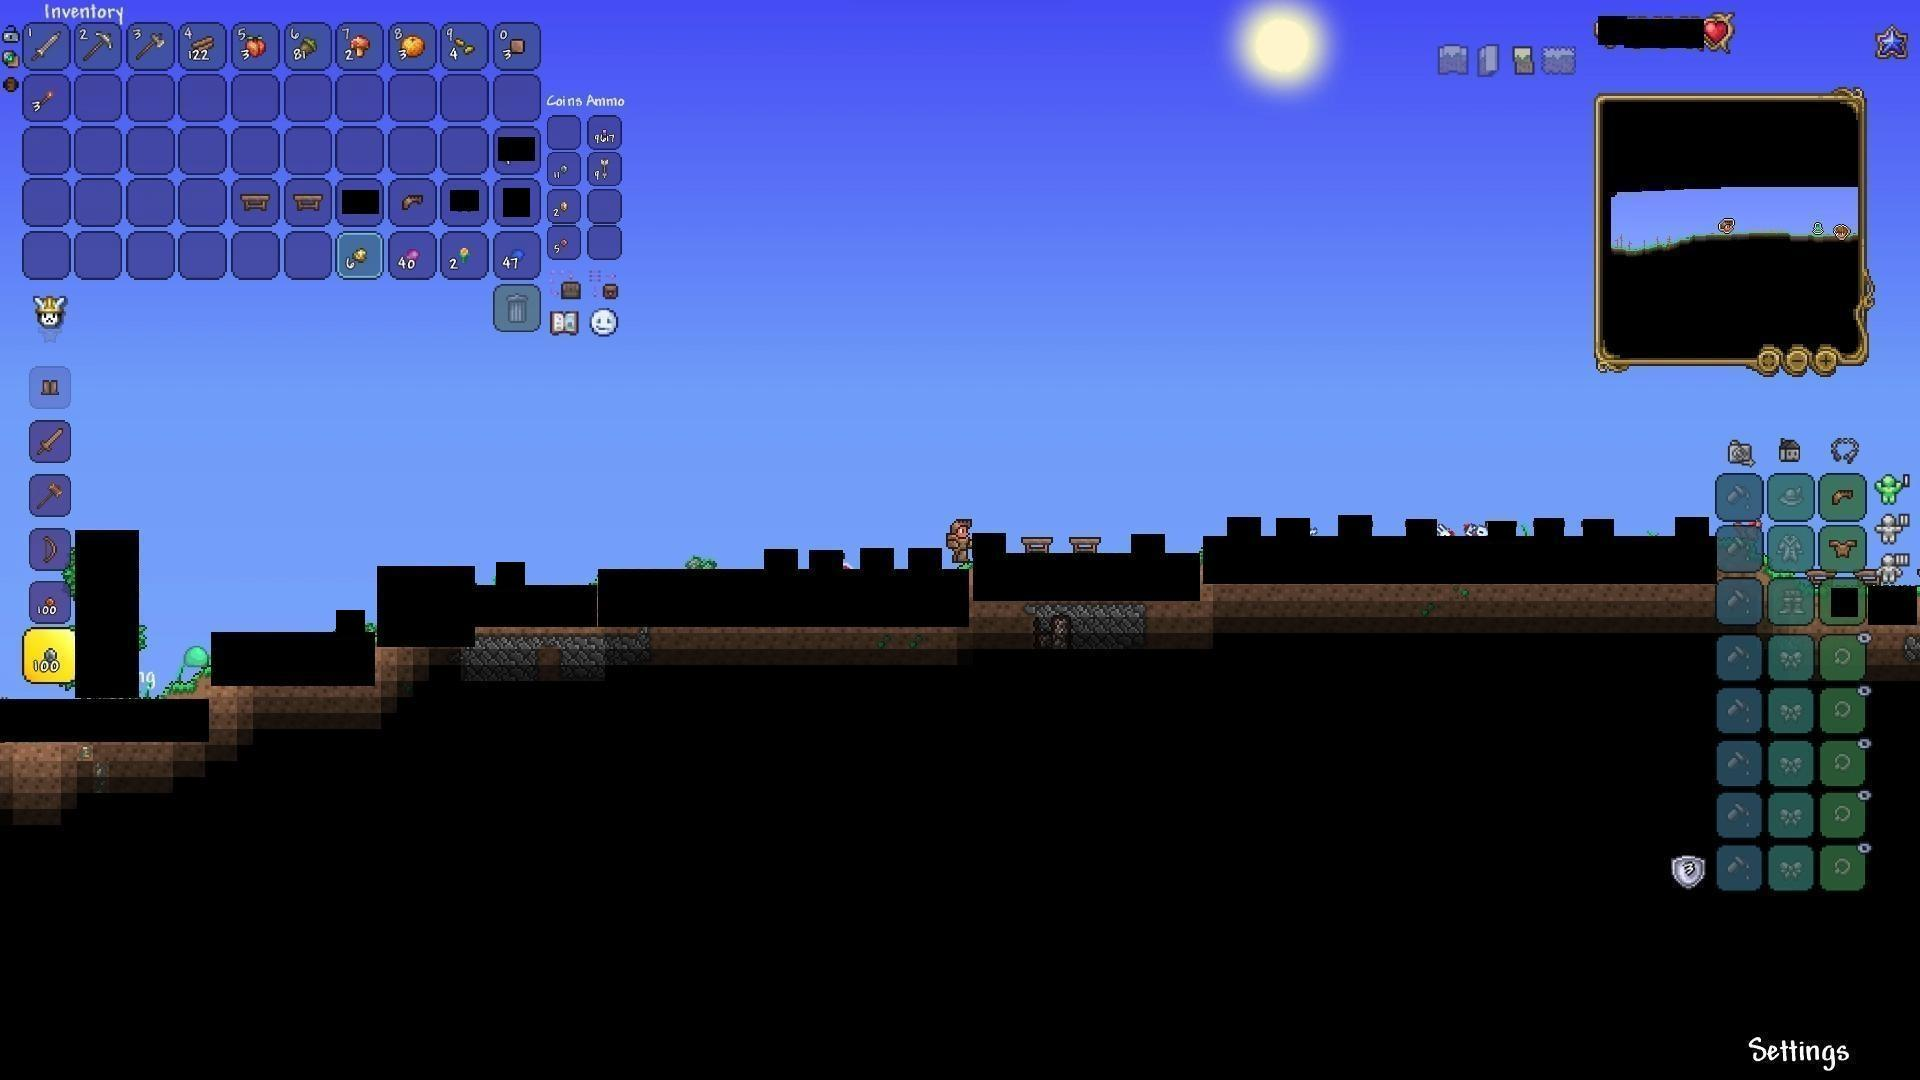breastplate: (1830, 537, 1858, 556)
heart: (1705, 18, 1731, 46)
helmet: (1829, 484, 1857, 509), (398, 193, 426, 218)
slime: (182, 646, 210, 673)
wood: (189, 32, 218, 61)
workbench: (240, 189, 276, 212), (291, 191, 328, 214), (1069, 534, 1102, 558), (1022, 534, 1055, 558)
